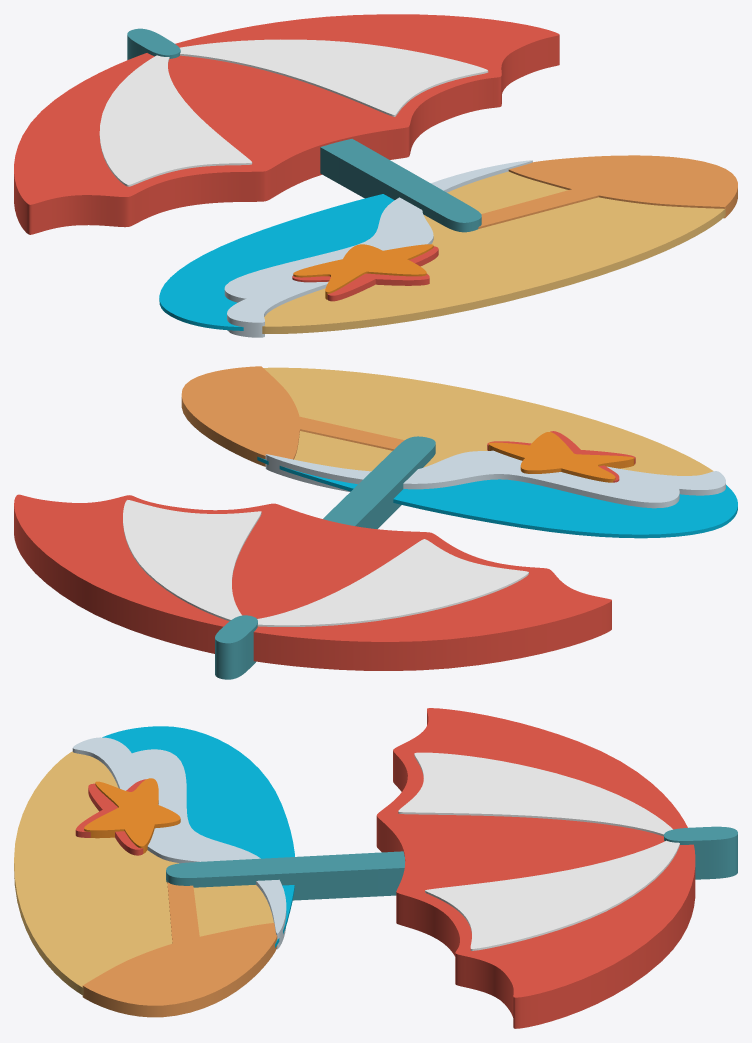
The model's file is emoji_u1f3d6.glb.
3 renders of one model, top to bottom at view 1: azimuth 30°, elevation 25°; view 2: azimuth 150°, elevation 25°; view 3: azimuth 270°, elevation 25°, orthographic. The views are drawn at different scales.
Visible parts, largest first — view 1: emoji_u1f3d6; view 2: emoji_u1f3d6; view 3: emoji_u1f3d6.
Part boxes in pixels (bbox=[...]): emoji_u1f3d6: bbox=[14, 14, 737, 337]; emoji_u1f3d6: bbox=[14, 366, 737, 679]; emoji_u1f3d6: bbox=[14, 708, 737, 1028].
Bounding box in the file's own units: 0.0319 × 0.002 × 0.0337.
